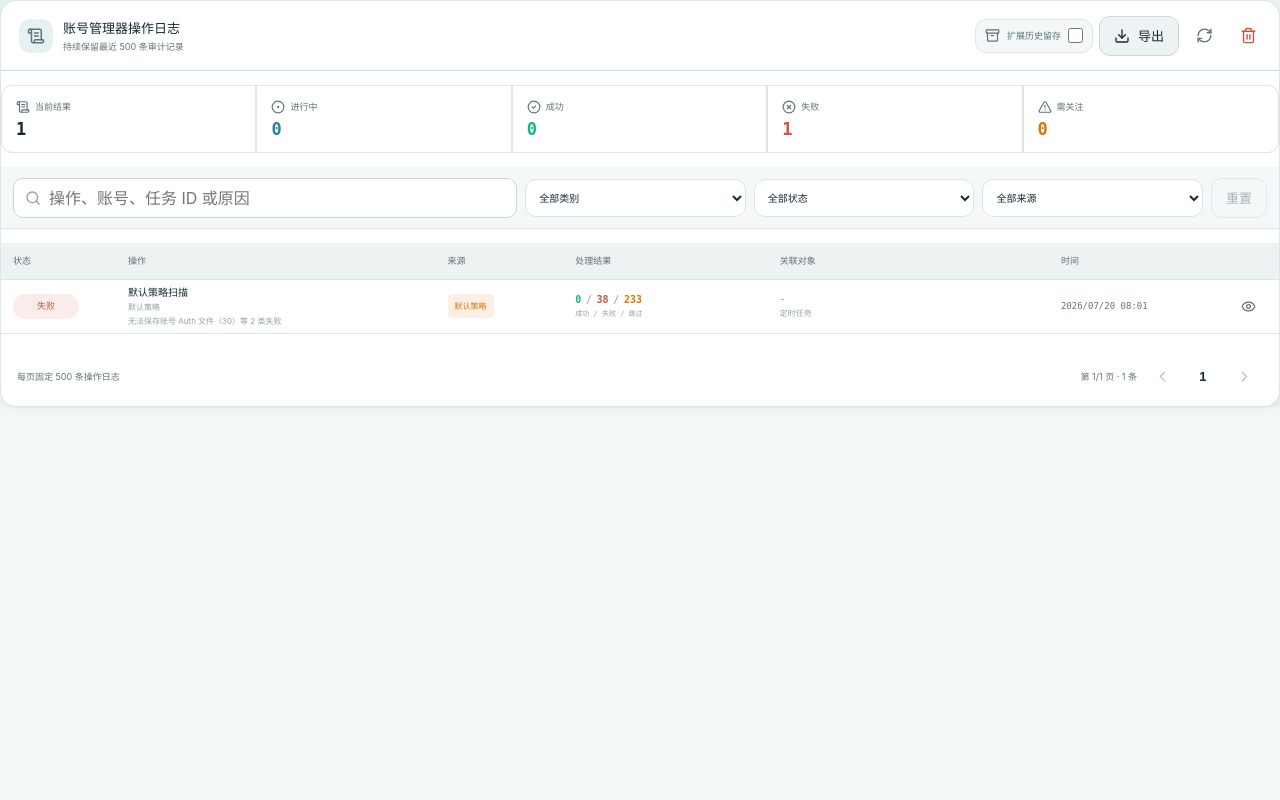
Test: OperationLogWorkspace › shows the categorized basis for failed default-policy scans
Check: the text "无法保存账号 Auth 文件（30）等 2 类失败" is shown, box [128,316,282,326]
Check: the text "操作失败" is not shown
Click the button named "查看操作详情" at (1248, 306), box [1229,287,1267,325]
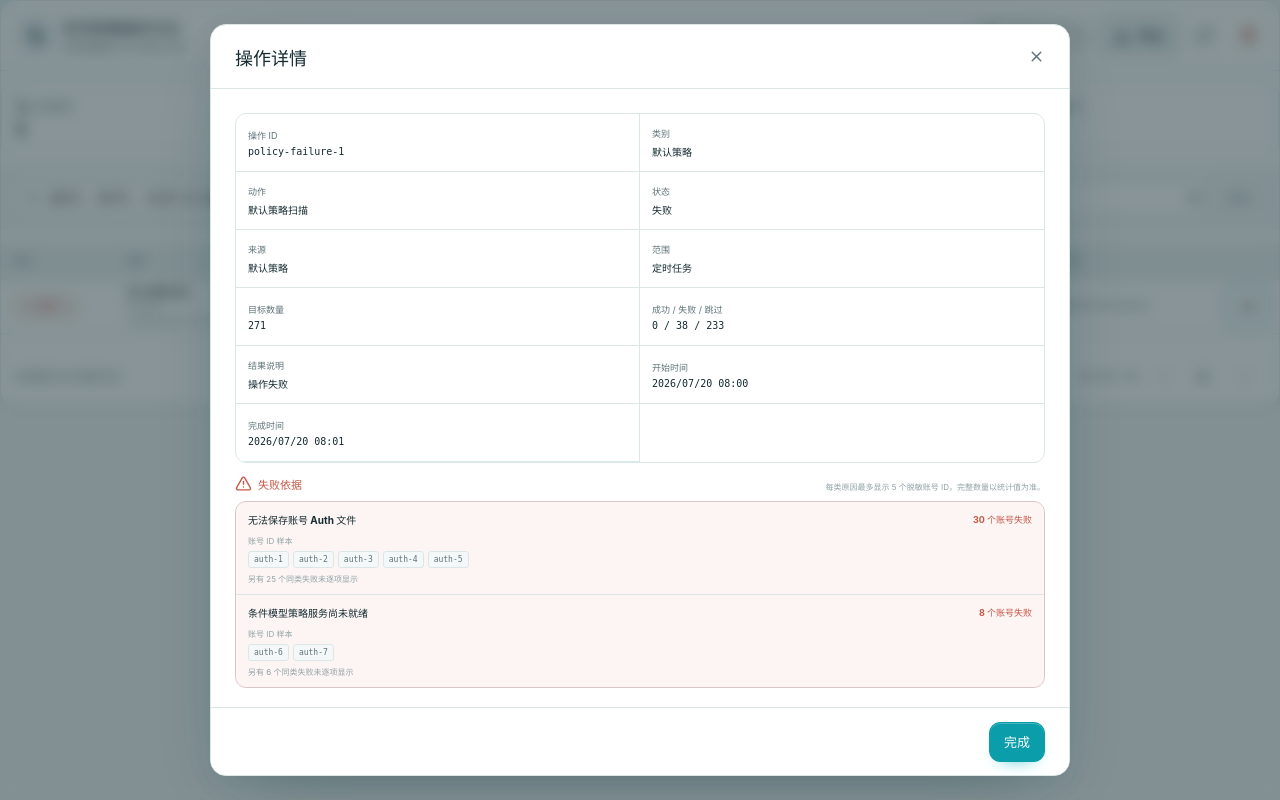
Check: the text "无法保存账号 Auth 文件" is shown, box [248,512,356,527]
Check: the text "30 个账号失败" is shown, box [973,513,1032,526]
Check: the text "条件模型策略服务尚未就绪" is shown, box [248,605,368,620]
